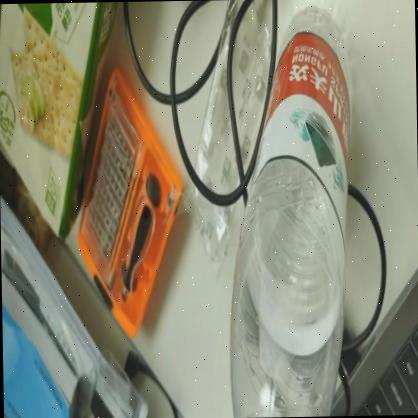bottle: (220, 0, 362, 413)
label: (230, 32, 358, 209)
